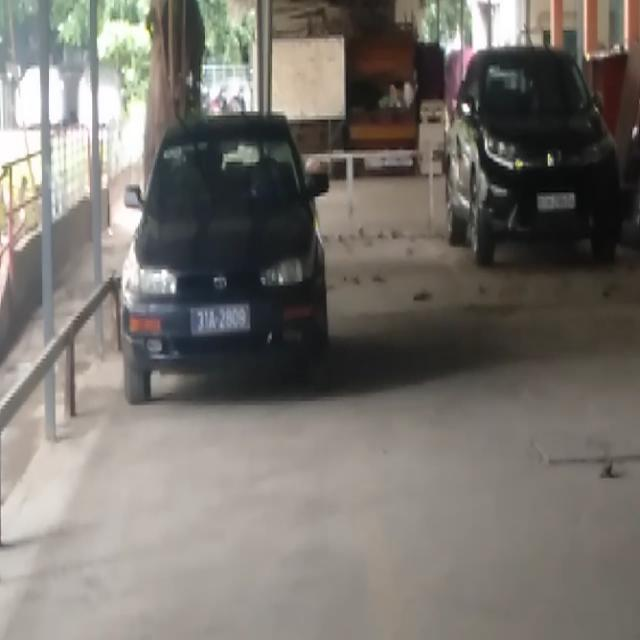bien_xanh: (184, 296, 254, 333)
